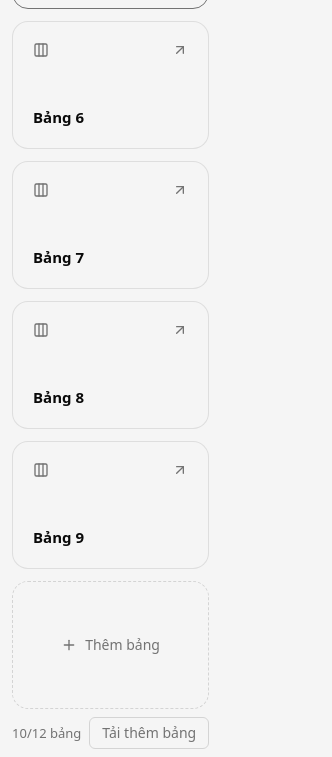
exposes every board page in the project's center content
(page scrolled)
What coordinates should you click on to do the following:
click the button "Tải thêm bảng"
I would click on:
 (149, 733)
Its box is [89, 717, 209, 749].
(page scrolled)
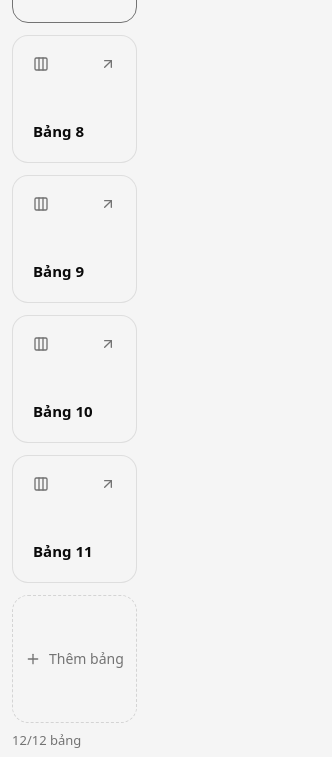
Now the link "Bảng 11" is shown, box [12, 455, 137, 583]
